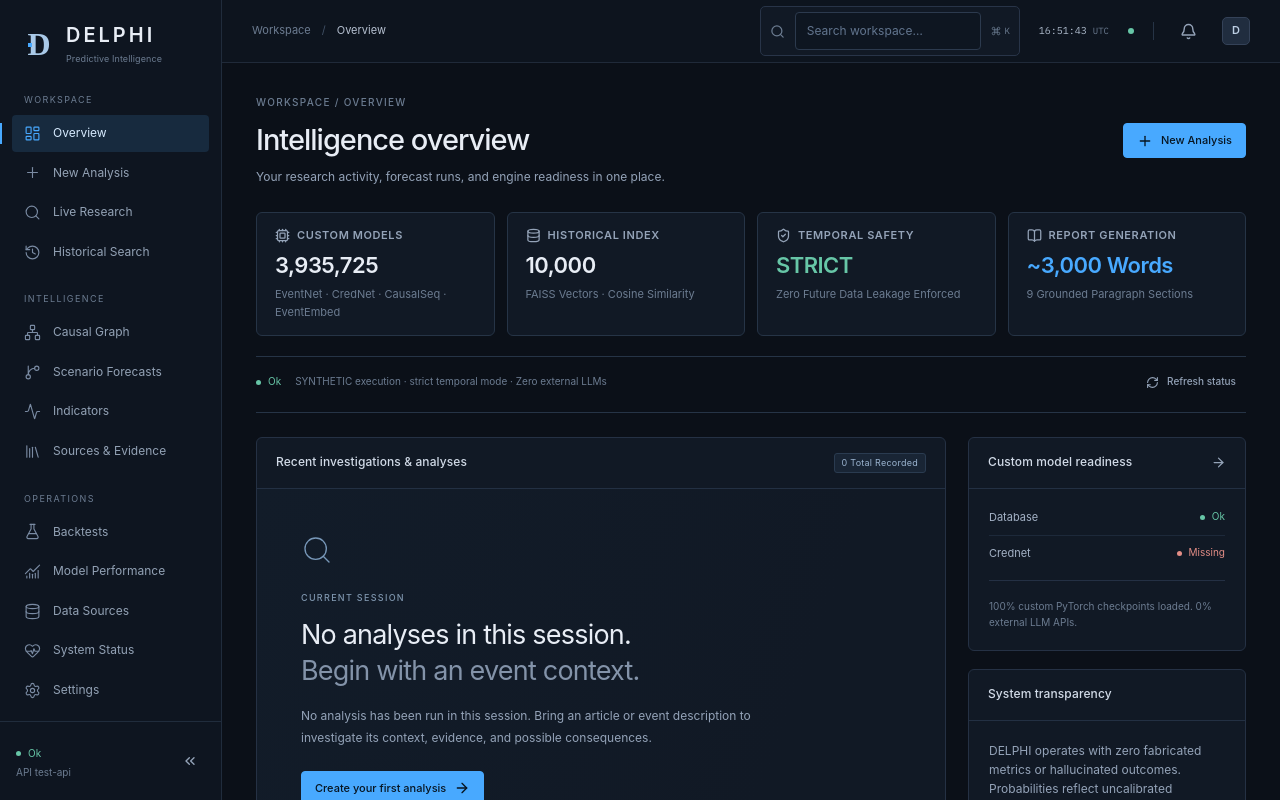
Test: frontend contract integration › starts honestly empty and all sidebar destinations are real routes
Expected: the text "No analysis has been run" is shown, [301,708,751,745]
Expected: the text "SYNTHETIC execution" is shown, [295,375,607,387]
Click the link "Settings": point(62, 690) [24,682,99,699]
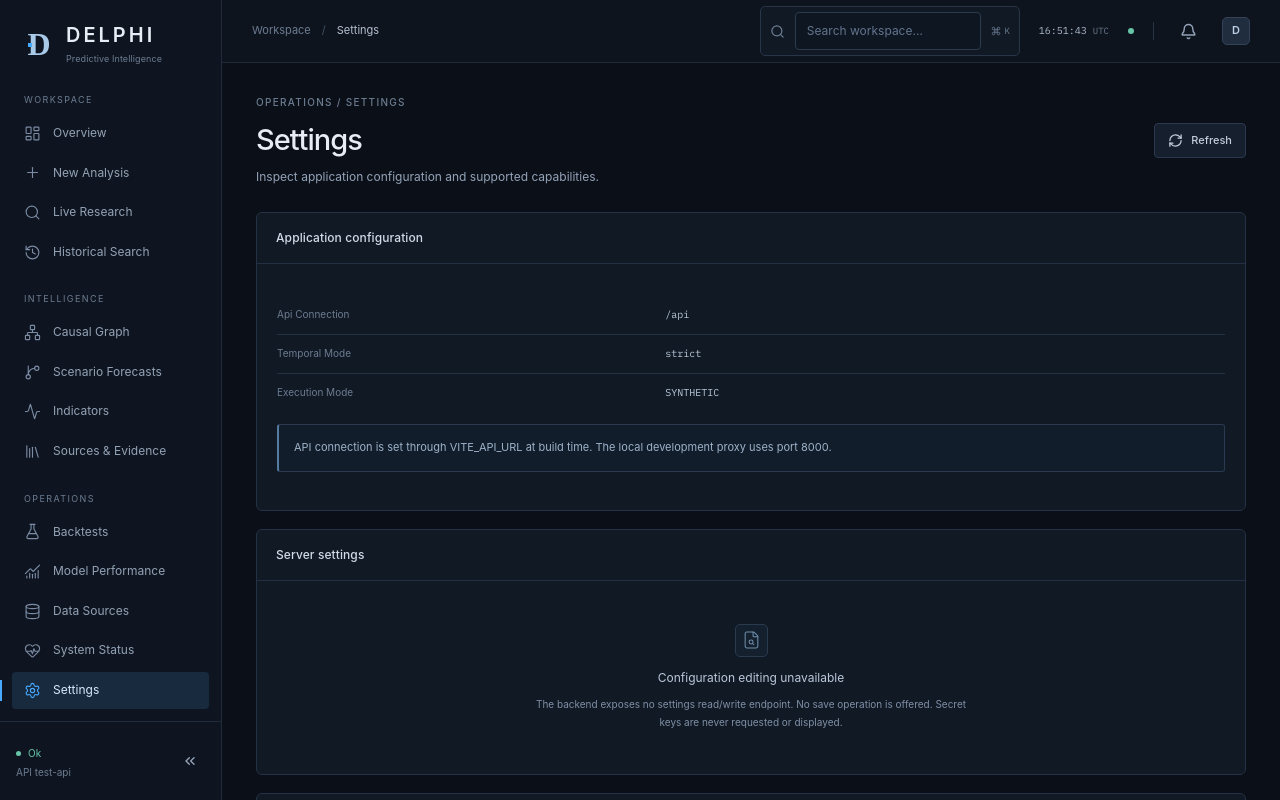
Expected: the heading "Configuration editing unavailable" is shown, [658,669,844,687]
